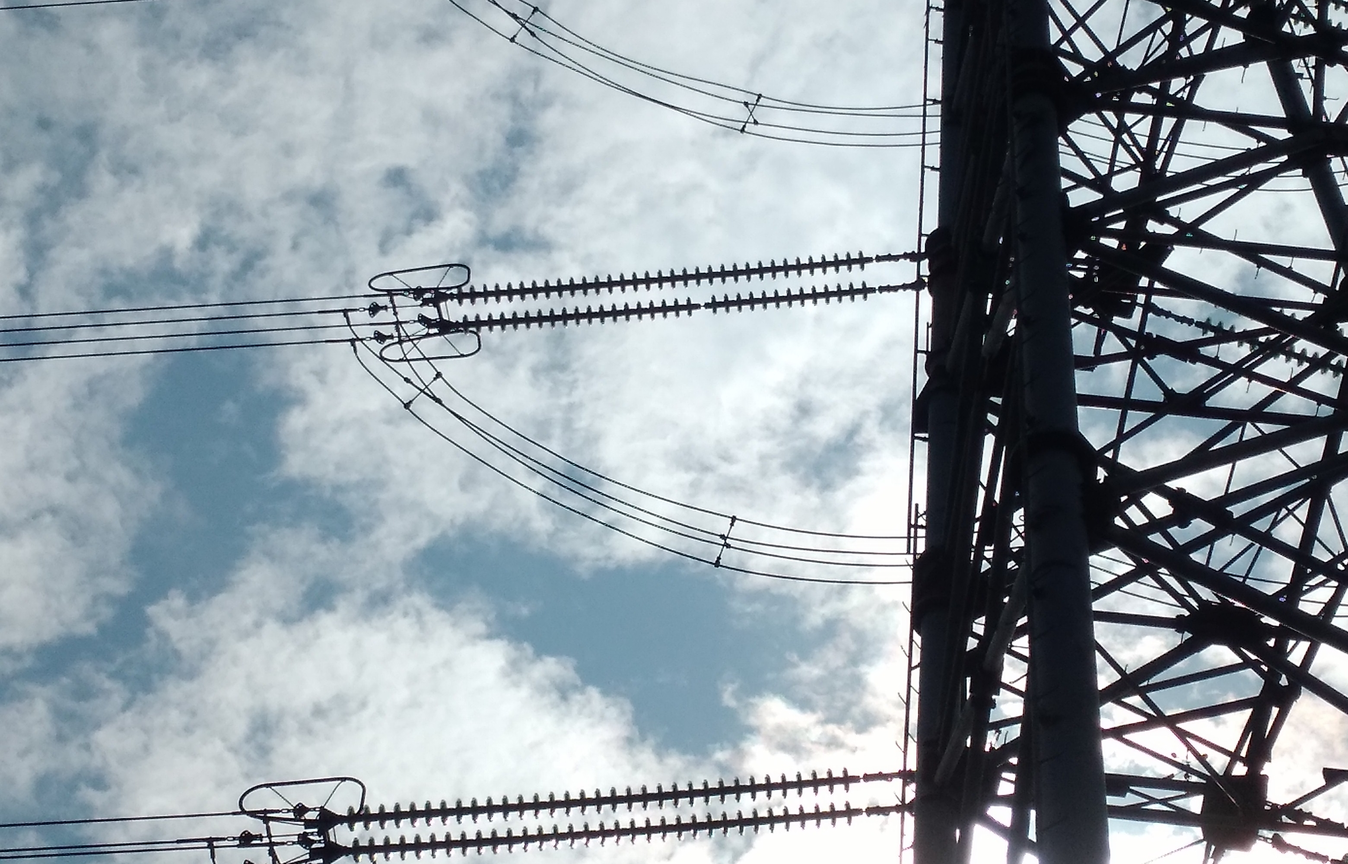绝缘子自爆区域: (694, 295, 709, 316)
